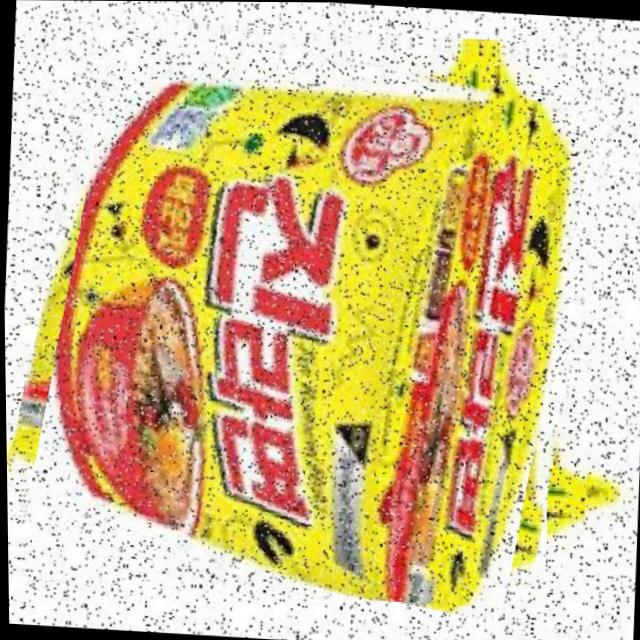Miscellaneous: (7, 14, 609, 612)
